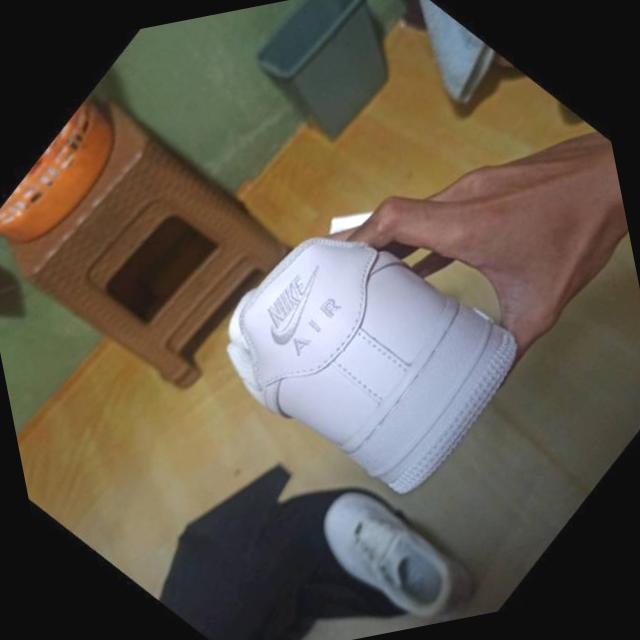nike_fake_airforce: (164, 146, 566, 550)
